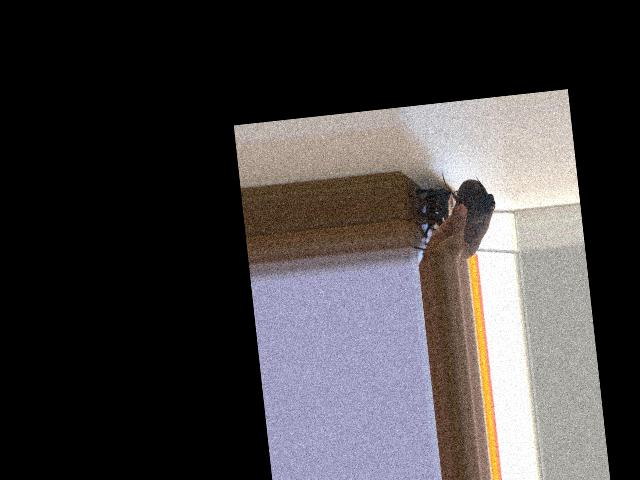beet: (441, 165, 497, 226)
